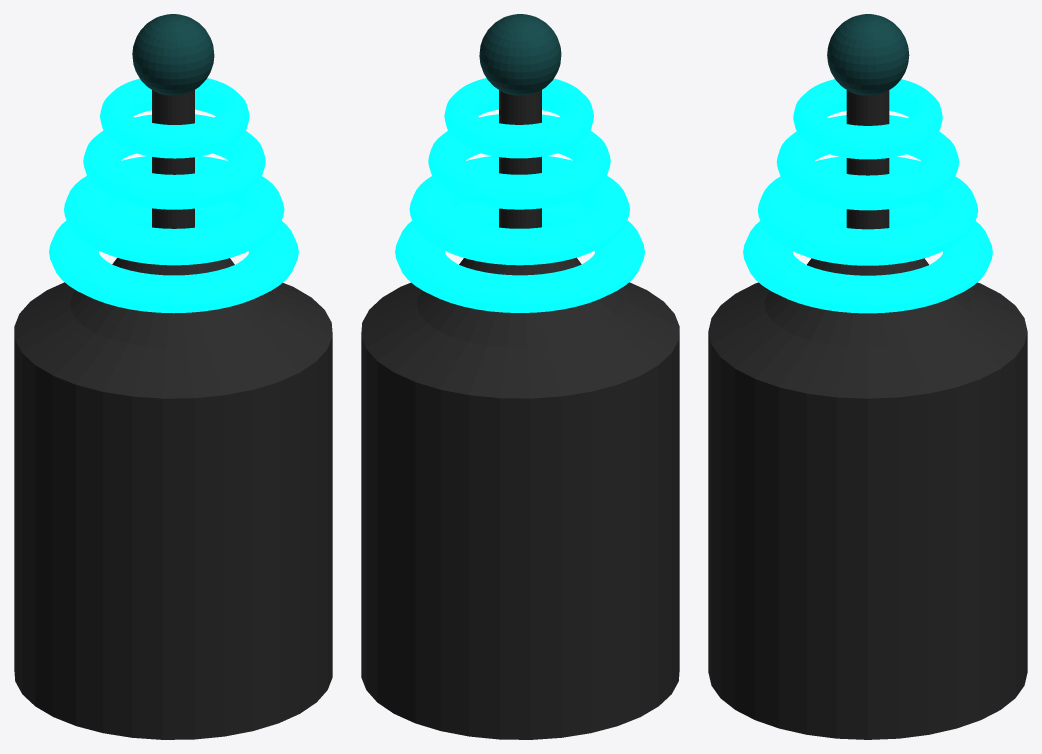
File: charger.glb
The picture shows the model from 3 angles, left to right: view 1: azimuth 30°, elevation 25°; view 2: azimuth 150°, elevation 25°; view 3: azimuth 270°, elevation 25°; orthographic projection.
Parts seen in each view (by area): view 1: Cylinder, Sphere, Sphere.002, Sphere.003, Sphere.004, Sphere.001; view 2: Cylinder, Sphere, Sphere.002, Sphere.003, Sphere.004, Sphere.001; view 3: Cylinder, Sphere, Sphere.002, Sphere.003, Sphere.004, Sphere.001.
Part boxes in pixels (<box>): Cylinder: <box>14,90,332,739</box>; Sphere: <box>49,200,298,313</box>; Sphere.002: <box>64,156,284,265</box>; Sphere.003: <box>83,114,265,209</box>; Sphere.004: <box>100,78,249,158</box>; Sphere.001: <box>132,14,214,95</box>; Cylinder: <box>361,90,679,739</box>; Sphere: <box>395,200,644,312</box>; Sphere.002: <box>409,156,629,265</box>; Sphere.003: <box>428,114,610,209</box>; Sphere.004: <box>444,78,593,158</box>; Sphere.001: <box>479,14,561,95</box>; Cylinder: <box>708,90,1027,739</box>; Sphere: <box>743,201,992,313</box>; Sphere.002: <box>757,156,978,265</box>; Sphere.003: <box>776,115,959,210</box>; Sphere.004: <box>793,79,942,159</box>; Sphere.001: <box>827,14,909,95</box>.
Size of the model in its own units: 1.35 by 3.06 by 1.35.
